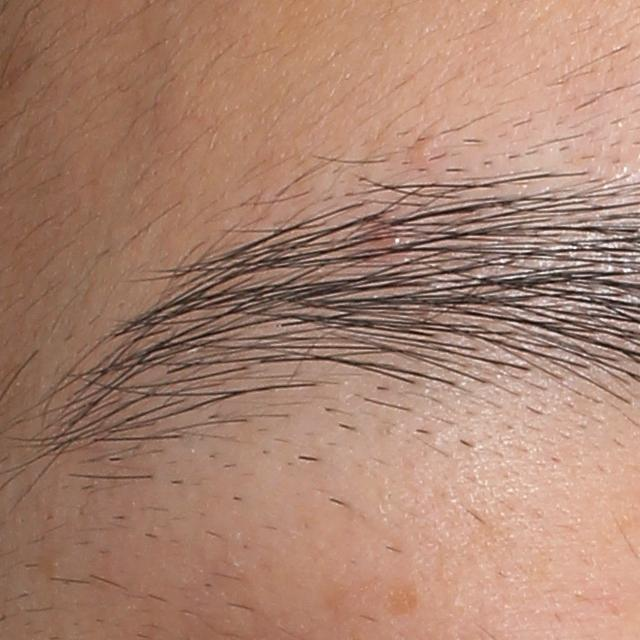melasma: (381, 577, 425, 620)
